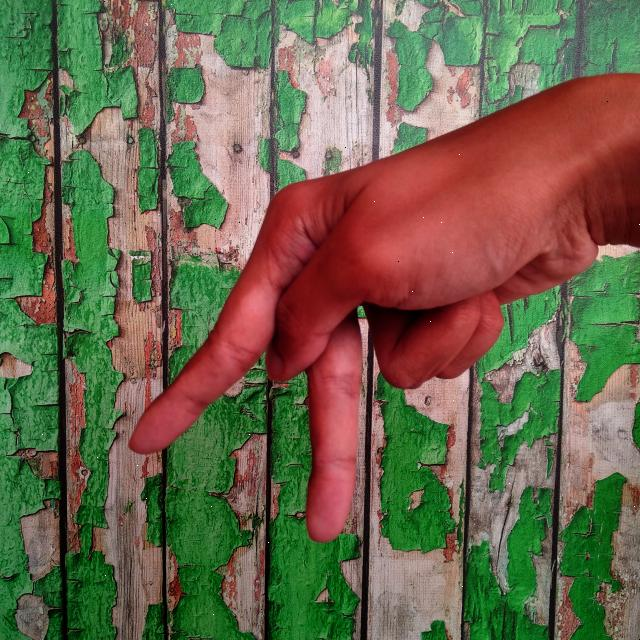P: (119, 49, 640, 547)
